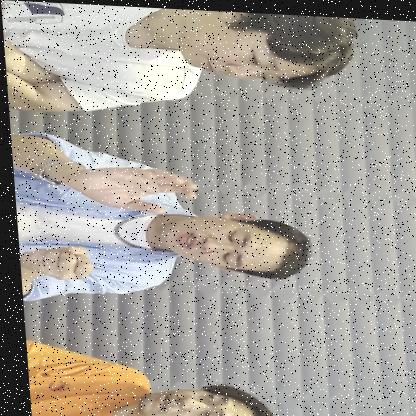streamer: (8, 131, 314, 313), (0, 0, 363, 125), (20, 339, 272, 416)
